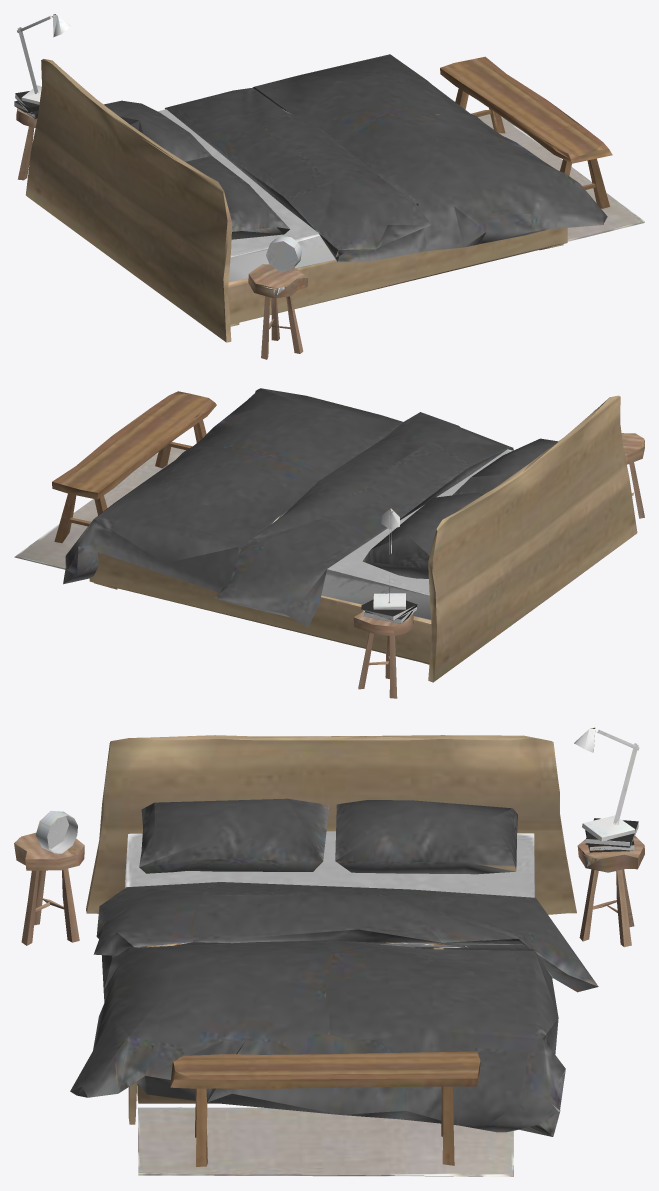
File: Bed0001.obj
The picture shows the model from 3 angles, top to bottom: view 1: azimuth 30°, elevation 25°; view 2: azimuth 150°, elevation 25°; view 3: azimuth 270°, elevation 25°; orthographic projection. The views are drawn at different scales.
Size of the model in its own units: 2.48 by 0.914 by 2.51.
1 material, 1 textured.
